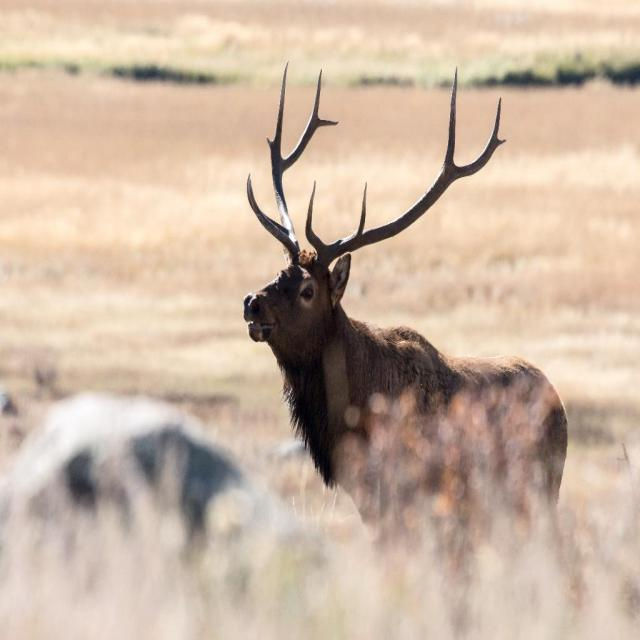Deer: (243, 60, 568, 542)
